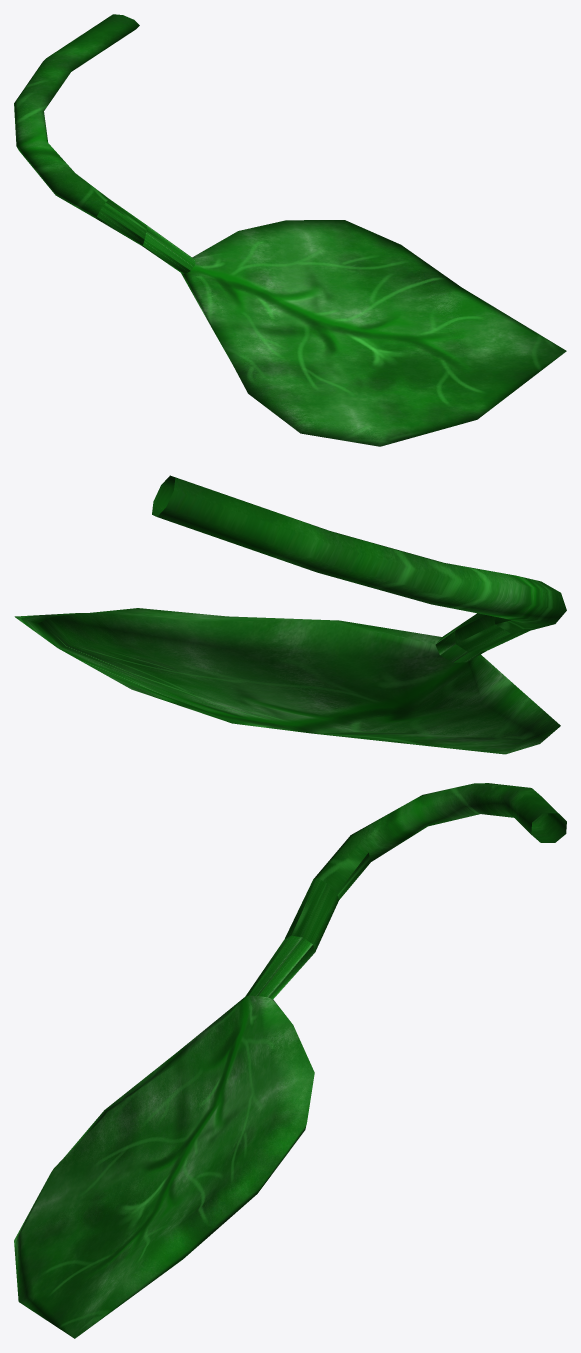
File: leaf_4.FBX
3 views of the same model, one above another, from view 1: azimuth 30°, elevation 25°; view 2: azimuth 150°, elevation 25°; view 3: azimuth 270°, elevation 25° (orthographic). The views are drawn at different scales.
Visible parts, largest first — view 1: Cylinder004; view 2: Cylinder004; view 3: Cylinder004.
Boxes of the visible parts, x1=… form: Cylinder004: x1=14, y1=14, x2=566, y2=446; Cylinder004: x1=14, y1=475, x2=566, y2=754; Cylinder004: x1=14, y1=783, x2=566, y2=1338.
Size of the model in its own units: 67.54 by 46.4 by 59.28.
1 material, 1 textured.
